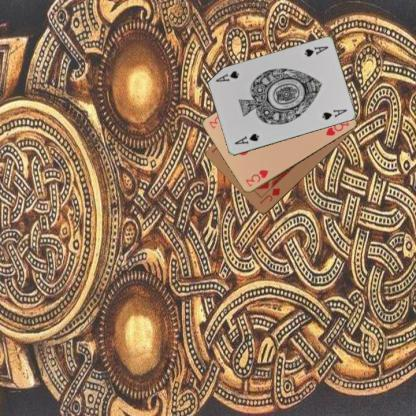3h: (243, 167, 269, 188)
As: (232, 131, 260, 146), (301, 44, 328, 58)
Jd: (257, 186, 282, 206)
